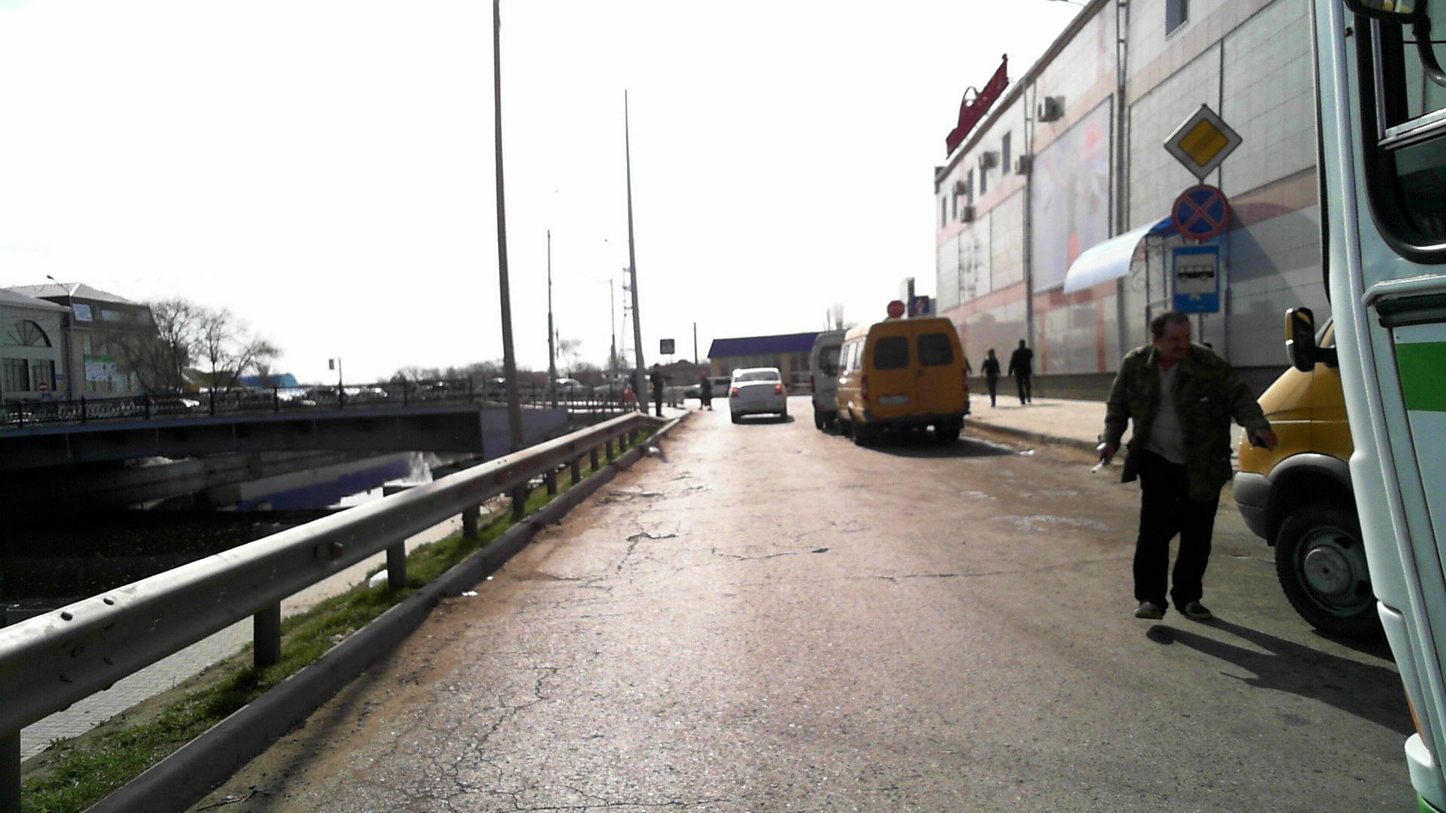road_sign: (1164, 102, 1243, 180), (1171, 184, 1230, 239), (1173, 247, 1219, 312), (910, 296, 929, 317)
